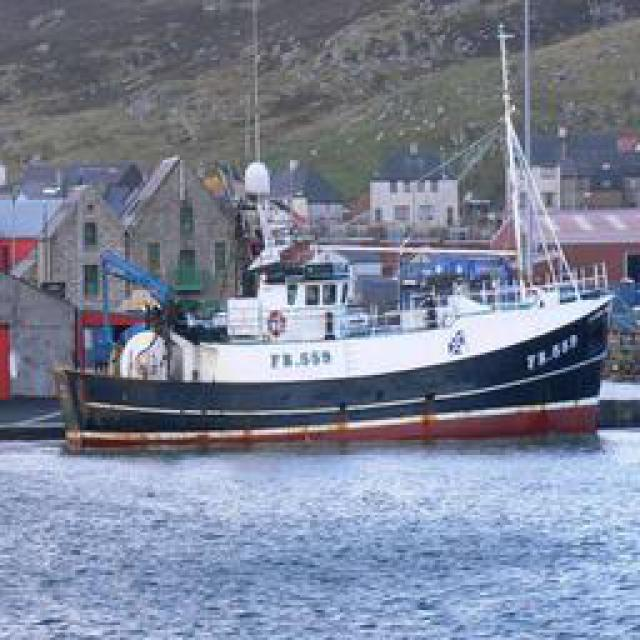Ship: (70, 89, 608, 442)
